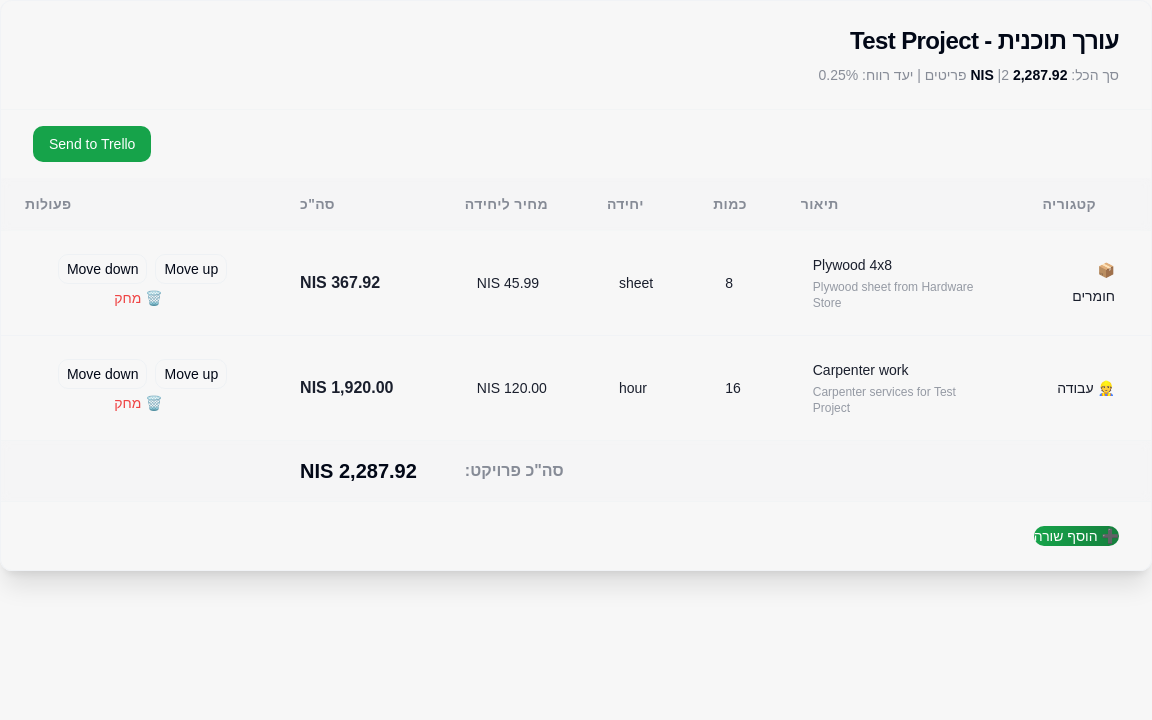
Test case: PlanEditor › moves rows down to reorder
# Move first row down
Click the button "Move down" in the row of "📦 חומרים". click: click(103, 269)
box: [58, 254, 148, 284]
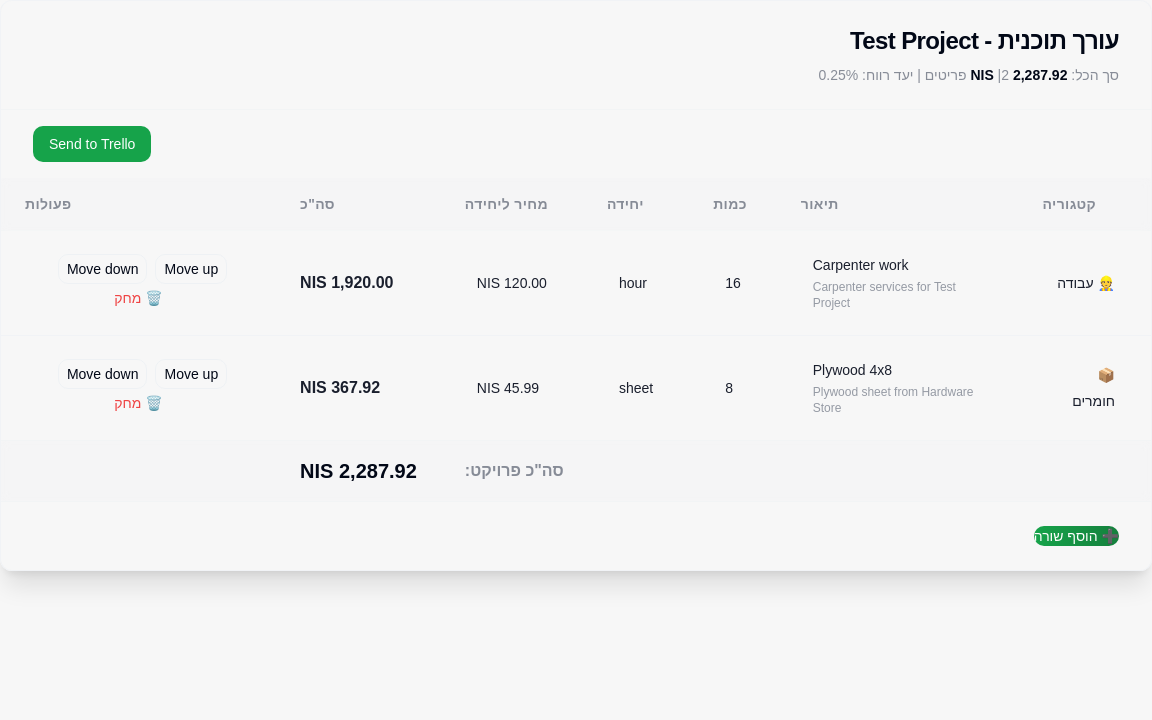
Now the text "Carpenter work" is shown, box [813, 257, 908, 273]
Now the text "Plywood 4x8" is shown, box [813, 362, 892, 378]
